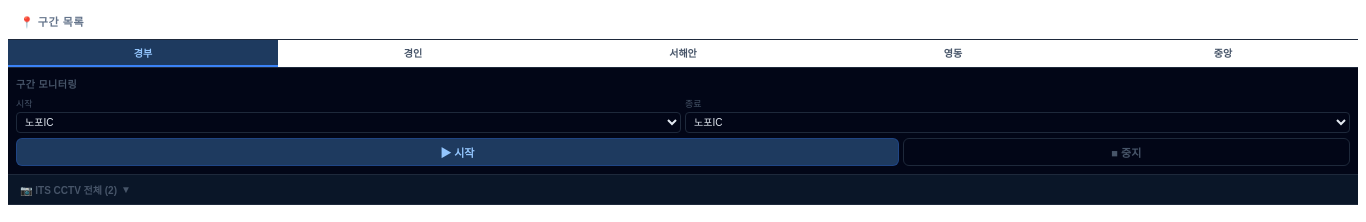
Scenario: SectionList — 처리중 영구 지속 버그 재현 (Bug-B-FE) › [Bug-B-FE 재현] 백엔드 무응답 시 처리중 버튼이 영구 지속된다
Check: the button "▶ 시작" is shown, box [16, 138, 899, 166]
Click the button "■ 중지" at [1126, 152], box [903, 138, 1350, 166]
Wait 10000 ms
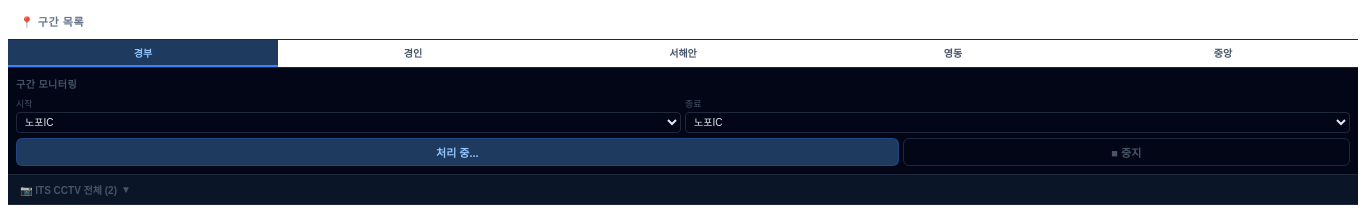
Check: the button "처리 중..." is shown, box [16, 138, 899, 166]
